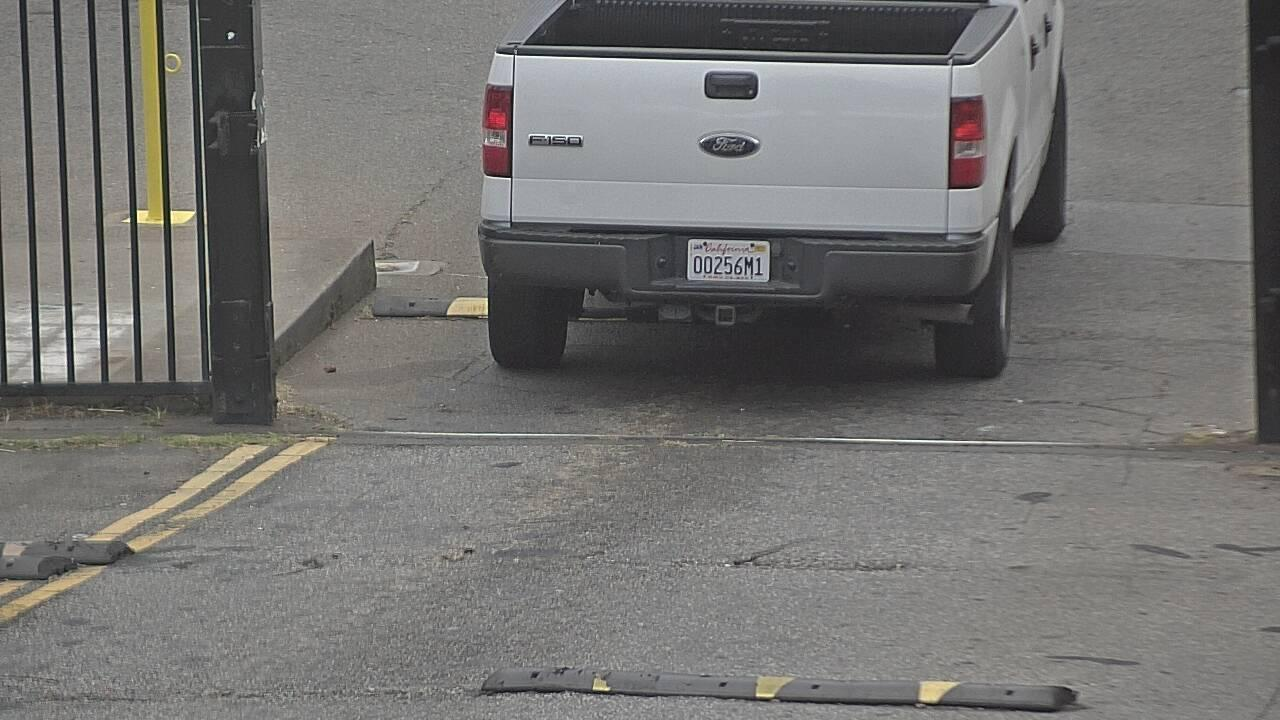placa de veiculo: (662, 222, 795, 293)
